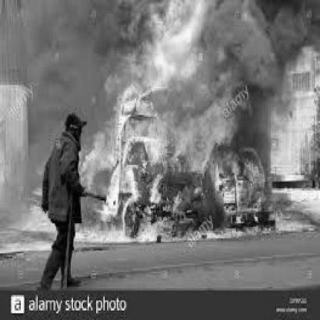Fire: (73, 1, 313, 249)
